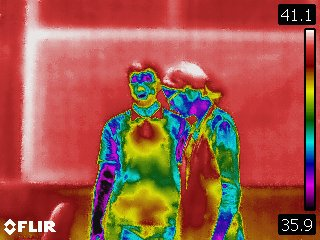human: (89, 60, 190, 240), (161, 62, 246, 240)
